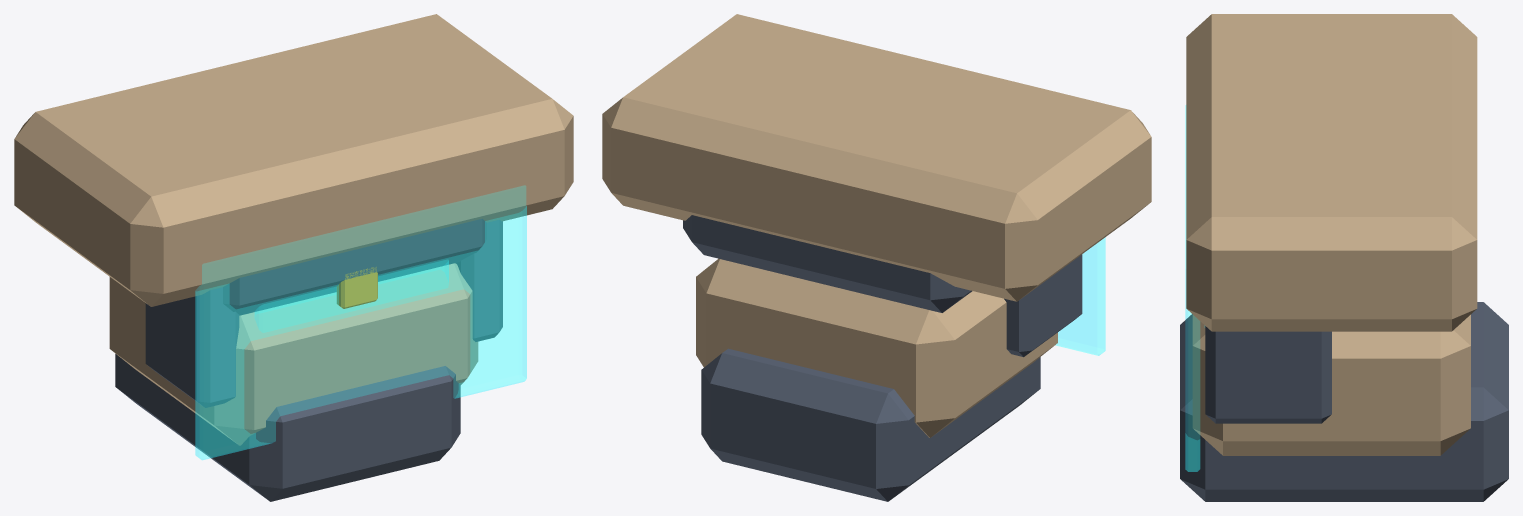
The model's file is Module_HoloSight_v002.fbx.
3 renders of one model, left to right at view 1: azimuth 30°, elevation 25°; view 2: azimuth 150°, elevation 25°; view 3: azimuth 270°, elevation 25°, orthographic. The views are drawn at different scales.
Visible parts, largest first — view 1: Module_HoloSight__RECEIVER_MESH; view 2: Module_HoloSight__RECEIVER_MESH; view 3: Module_HoloSight__RECEIVER_MESH.
Boxes of the visible parts, x1,y1,x2,y2 form: Module_HoloSight__RECEIVER_MESH: [14, 14, 573, 501]; Module_HoloSight__RECEIVER_MESH: [602, 14, 1151, 501]; Module_HoloSight__RECEIVER_MESH: [1180, 14, 1508, 501].
Bounding box in the file's own units: 0.42 × 0.3 × 0.26.
